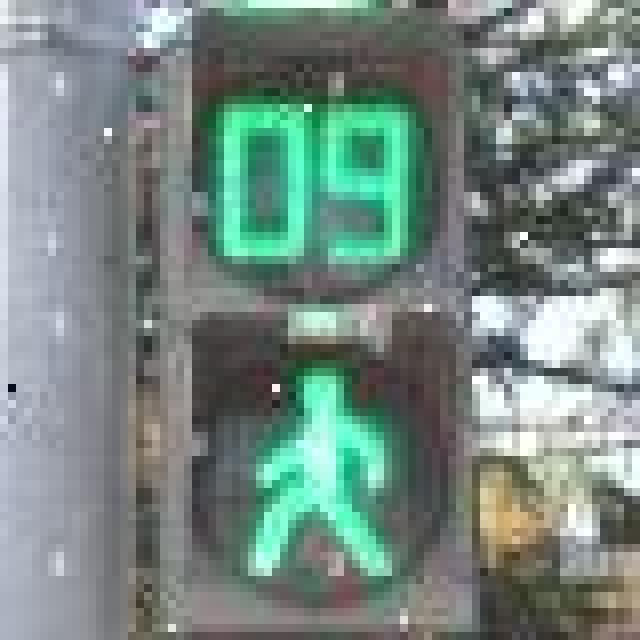greenlight: (160, 280, 472, 632)
